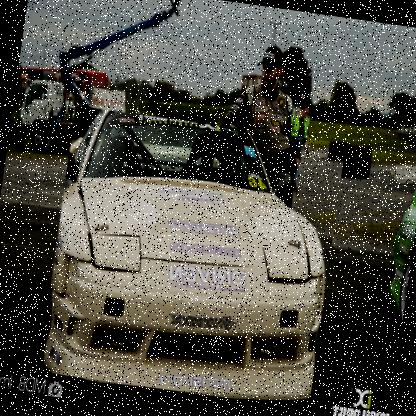Car: (37, 106, 346, 410)
